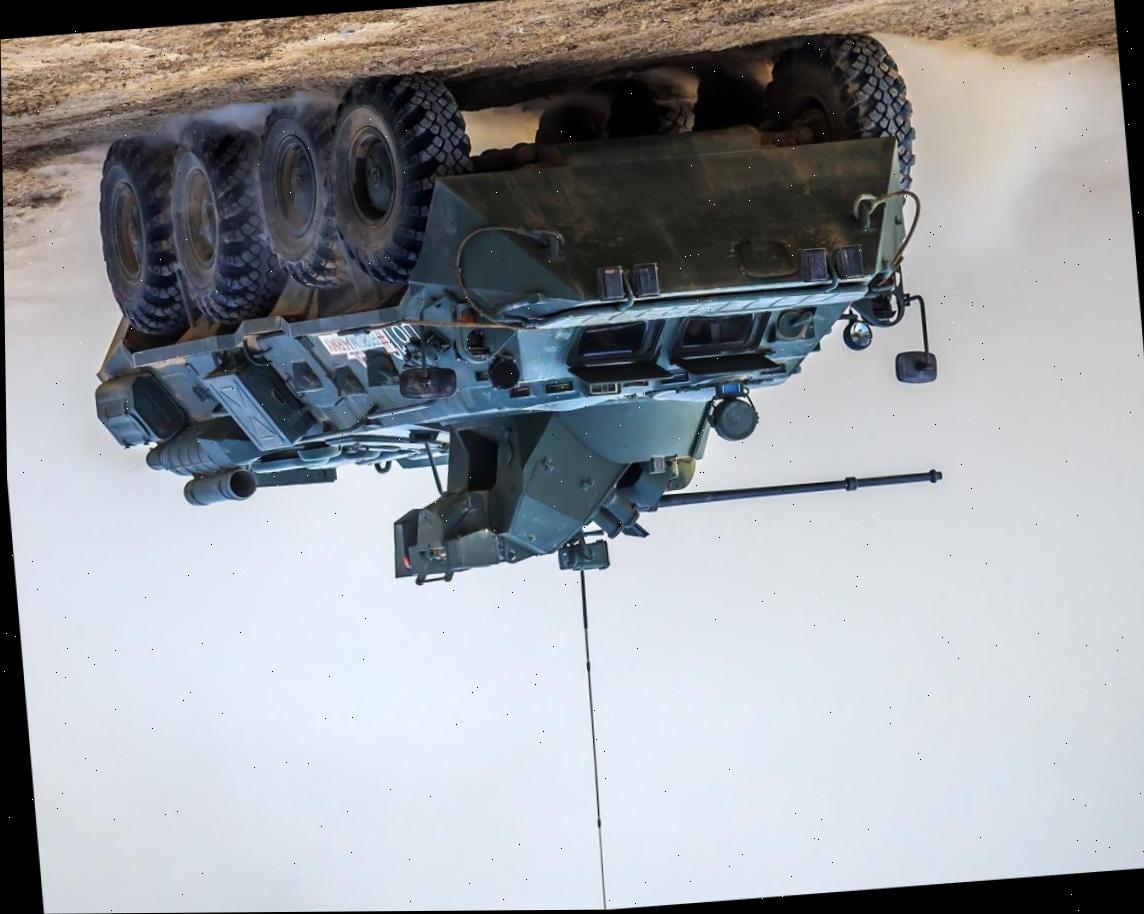tank: (64, 26, 956, 611)
